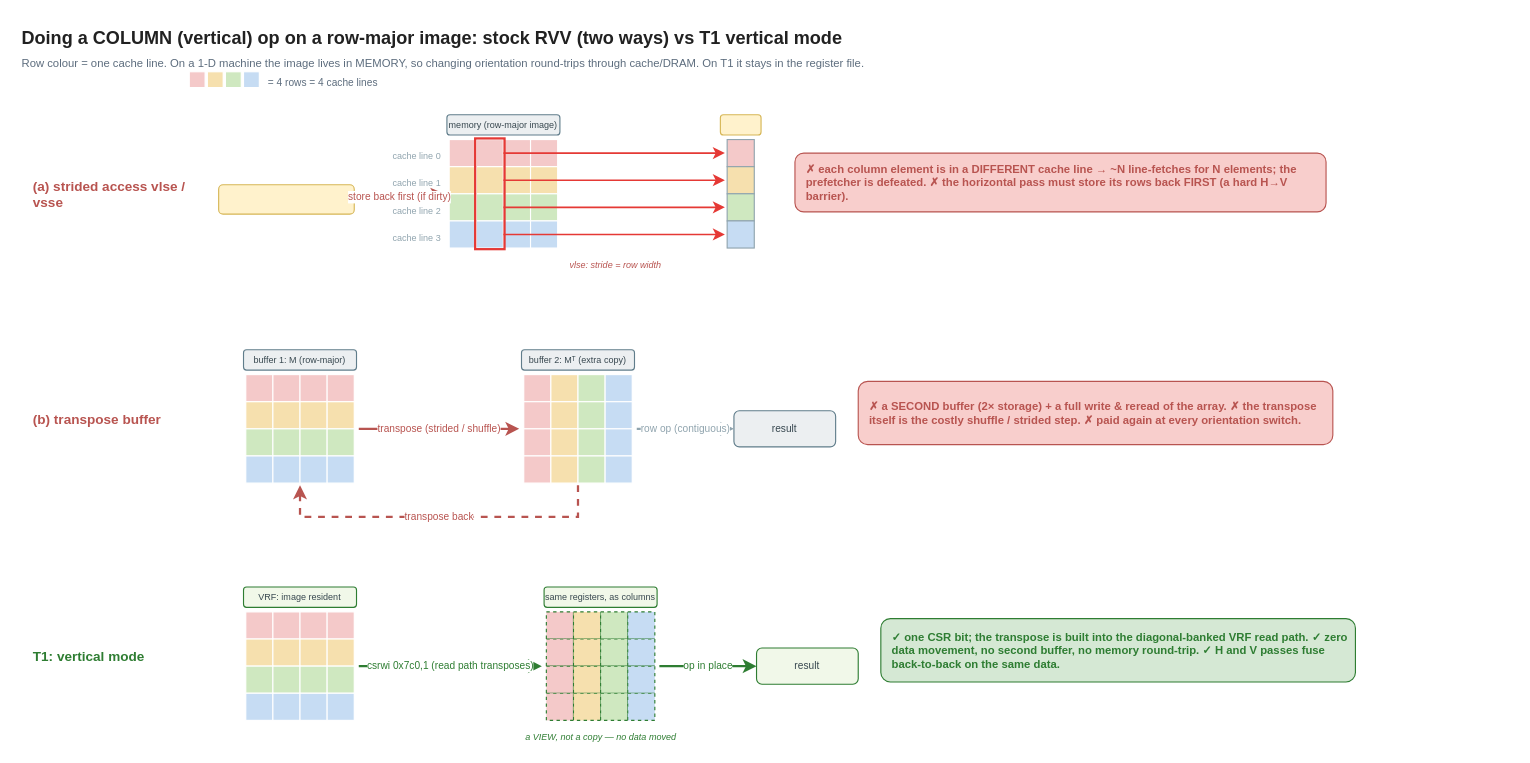
Image size: 1530x763. Some labels were removed from this diagram. The shapes that lost their labels are listed below. From the top down, each one's centre as x and y in pixels, then its label:
At point 740,124: "reg = COLUMN".
At point 286,199: "vector reg = a ROW".
